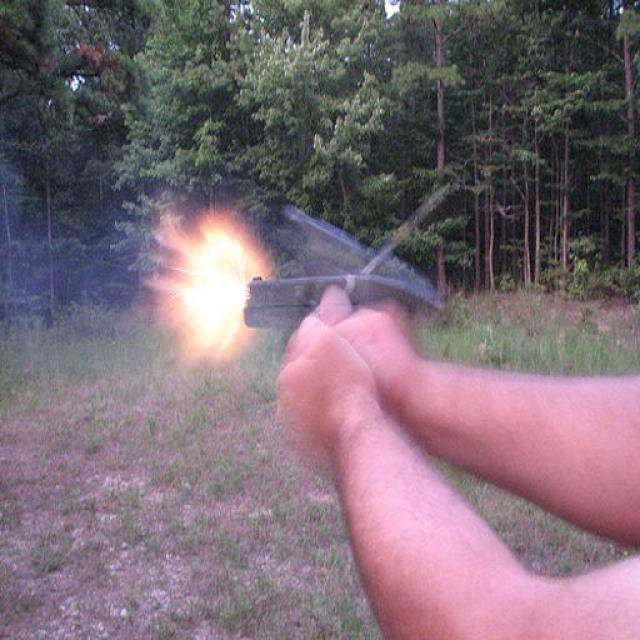pistol: (236, 265, 420, 380)
